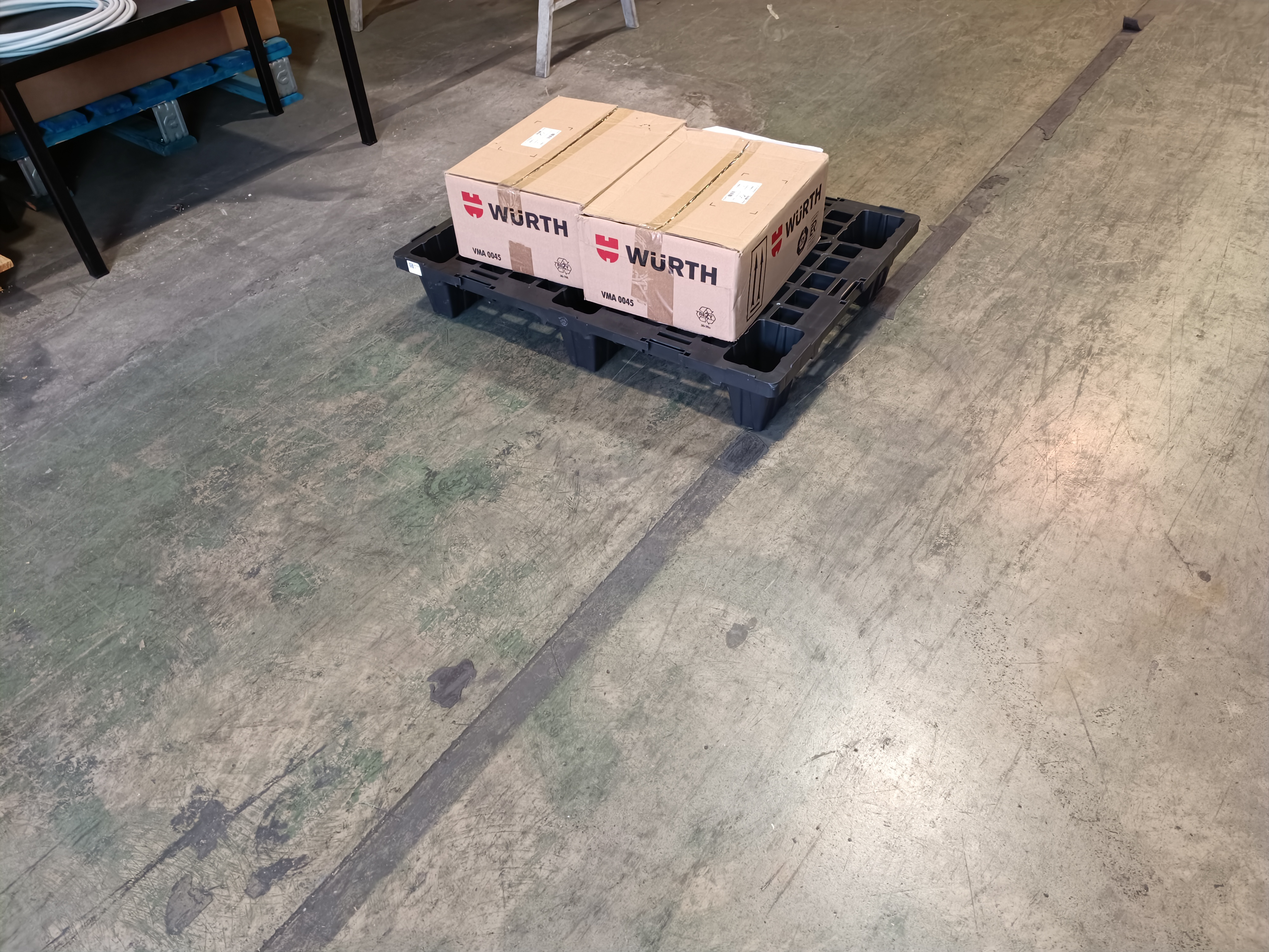block: (728, 384, 773, 434), (563, 327, 603, 372), (425, 278, 450, 321)
front: (398, 253, 772, 450)
hole pallet: (603, 337, 725, 423), (450, 285, 565, 355)
